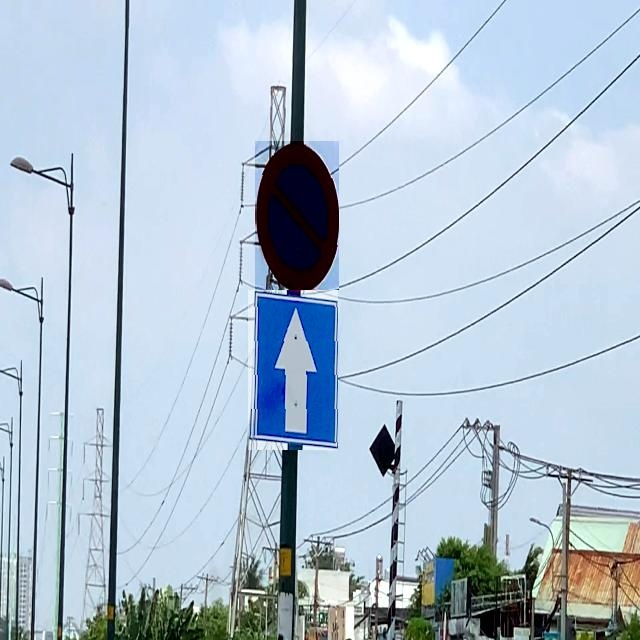bien_chi_dan: (248, 290, 338, 450), (255, 141, 339, 290)
